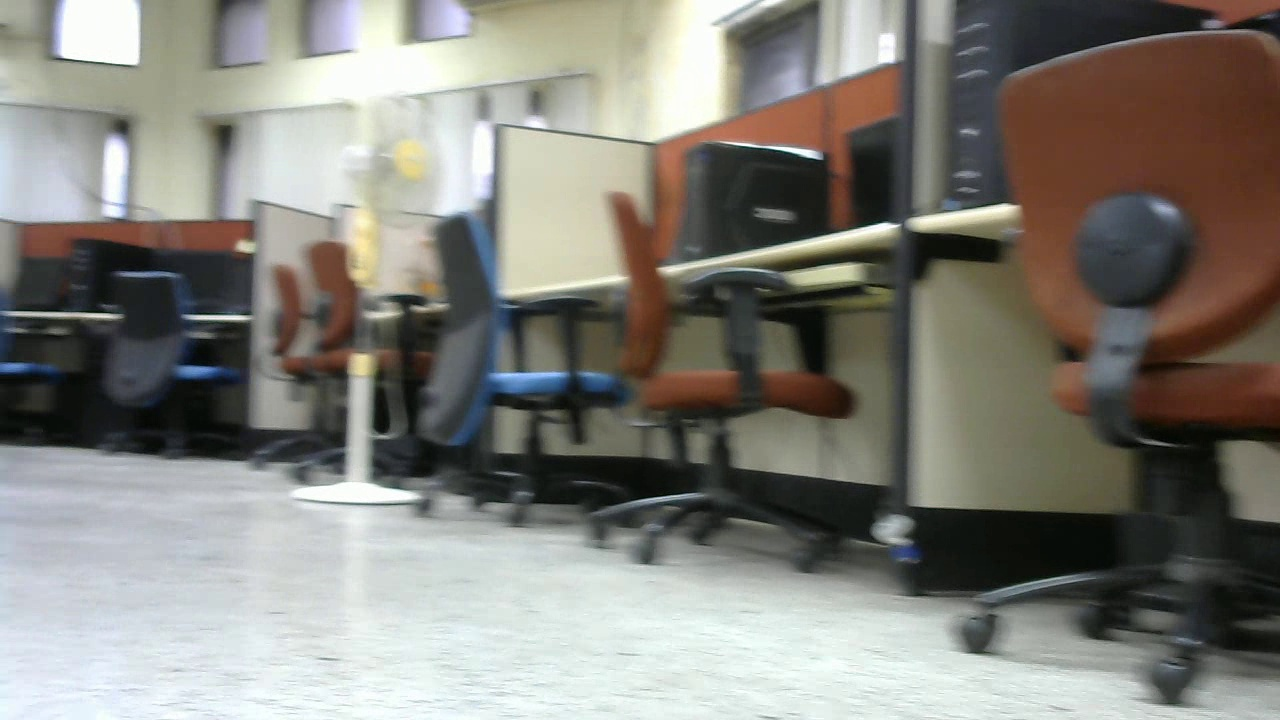chair: (960, 23, 1280, 709), (586, 188, 856, 569), (403, 212, 616, 523), (244, 237, 436, 484), (91, 262, 242, 463)
